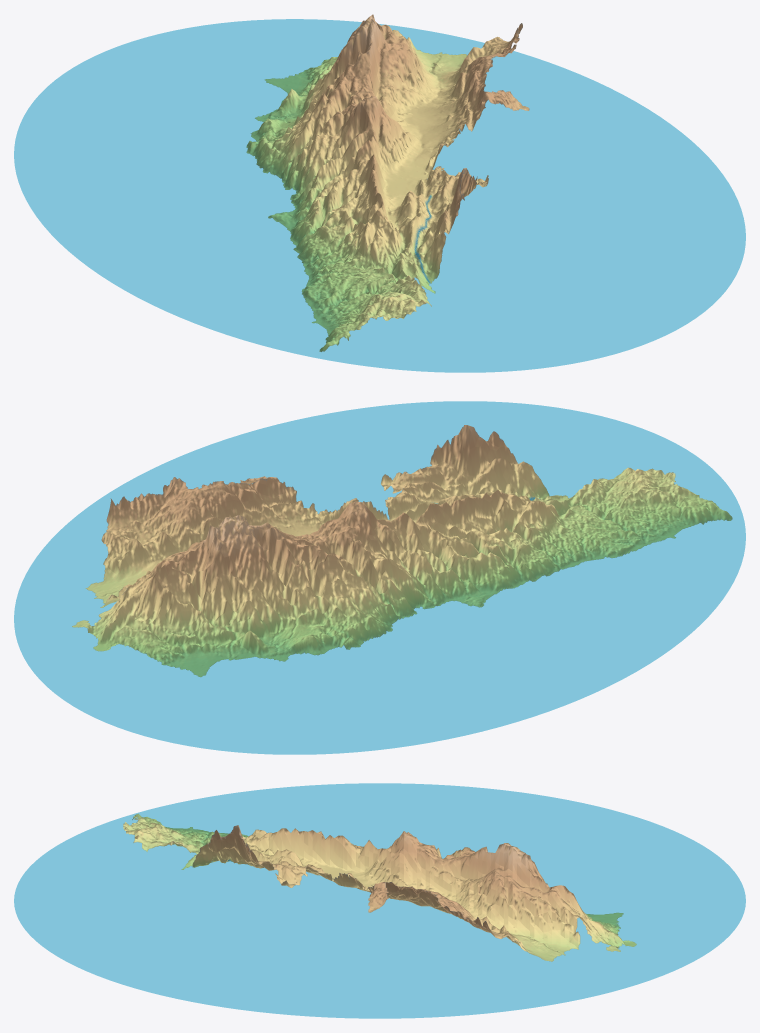
The model's file is LBN-terrain.glb.
3 renders of one model, top to bottom at view 1: azimuth 30°, elevation 25°; view 2: azimuth 150°, elevation 25°; view 3: azimuth 270°, elevation 25°, orthographic. The views are drawn at different scales.
Visible parts, largest first — view 1: Relevo com hidrografia; view 2: Relevo com hidrografia; view 3: Relevo com hidrografia.
Boxes of the visible parts, x1,y1,x2,y2 form: Relevo com hidrografia: (14,14,745,372); Relevo com hidrografia: (14,401,745,754); Relevo com hidrografia: (14,783,745,1018).
Size of the model in its own units: 1.74 by 0.2901 by 2.29.
2 materials, 1 textured.
